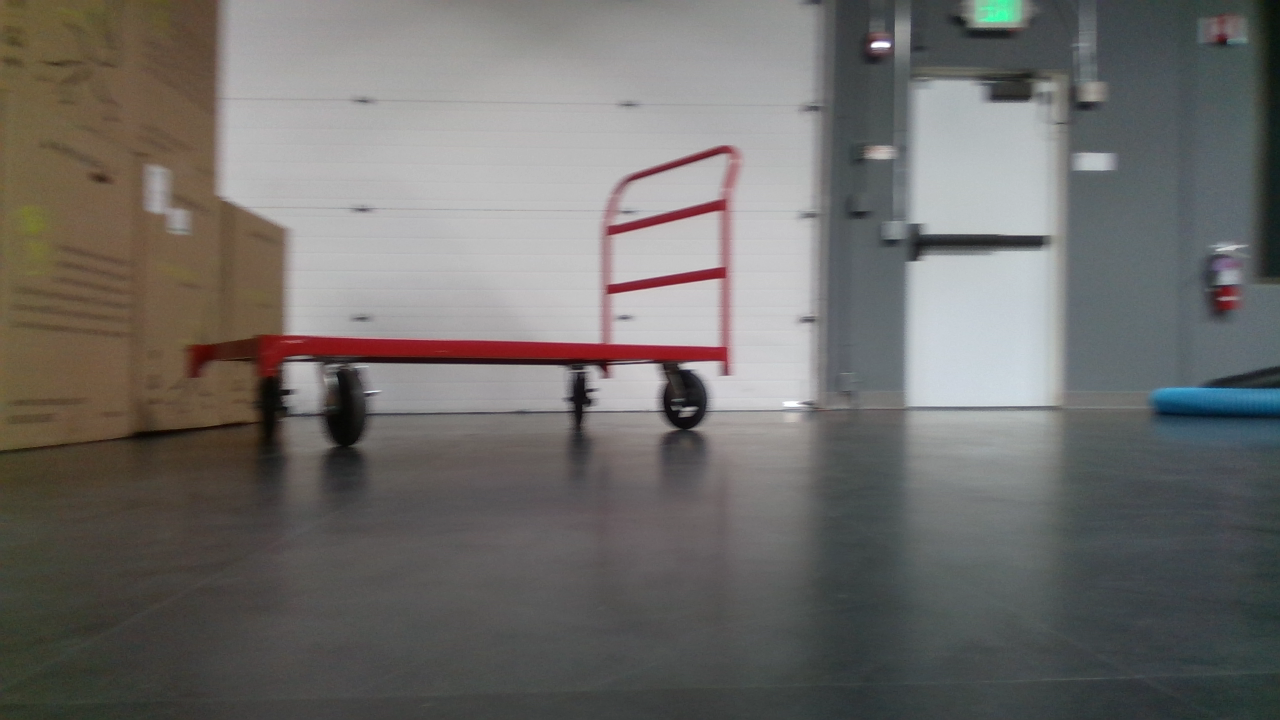Dolly: (184, 143, 743, 450)
Wheel: (316, 364, 379, 449), (249, 359, 297, 438), (659, 370, 709, 430), (561, 368, 596, 428)
